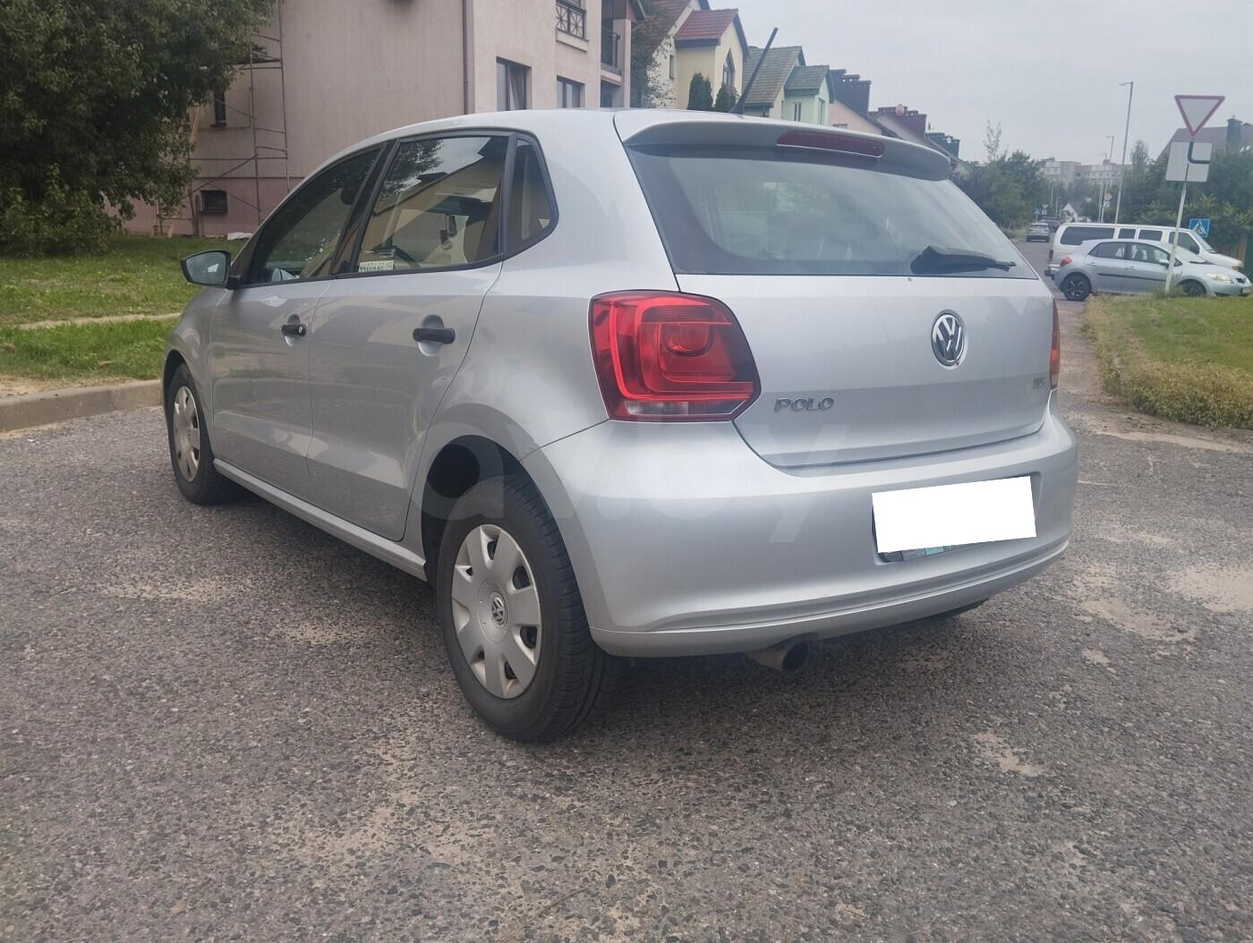Polo_2009-2015: (129, 123, 1071, 757)
